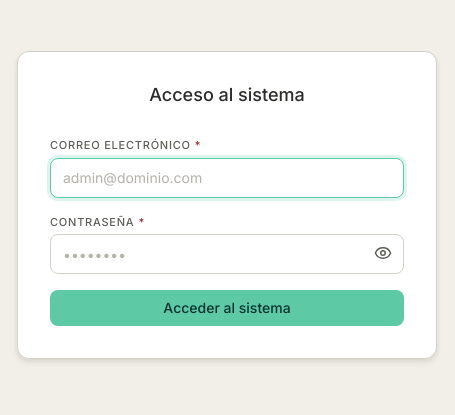
Test case: SystemLoginPage — flujo de autenticación › muestra mensaje genérico ante 401
Type "x@x.com" into the field labelled "Correo electrónico*". click: {"x": 227, "y": 178}
box: [50, 158, 404, 198]
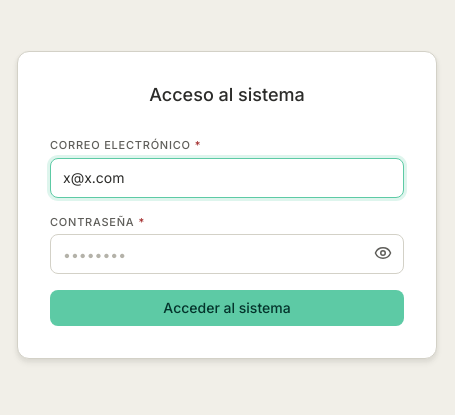
Type "wrong" into the password field labelled "Contraseña*". click: {"x": 227, "y": 254}
box: [50, 234, 404, 274]
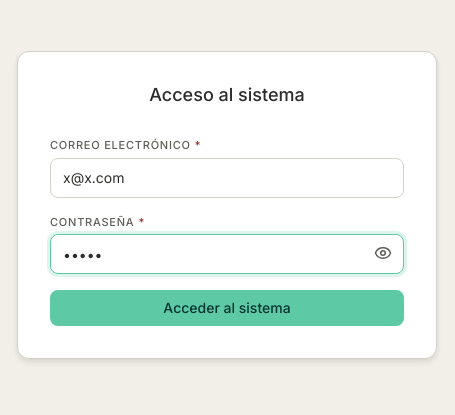
Click the button "Acceder al sistema". click: {"x": 227, "y": 308}
box: [50, 290, 404, 326]
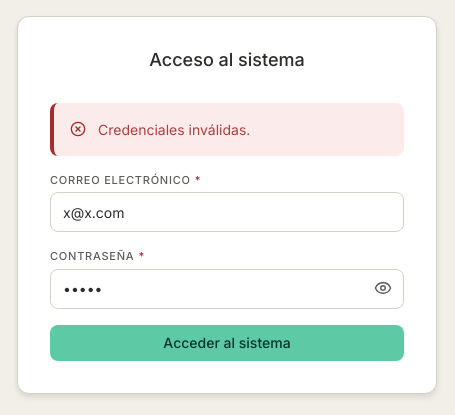
Check: the text "Credenciales inválidas." is shown, box [98, 121, 250, 138]
